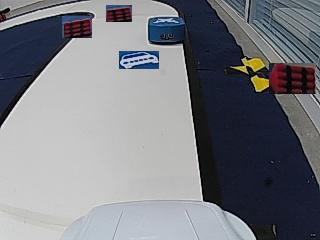prop: (148, 16, 186, 46)
